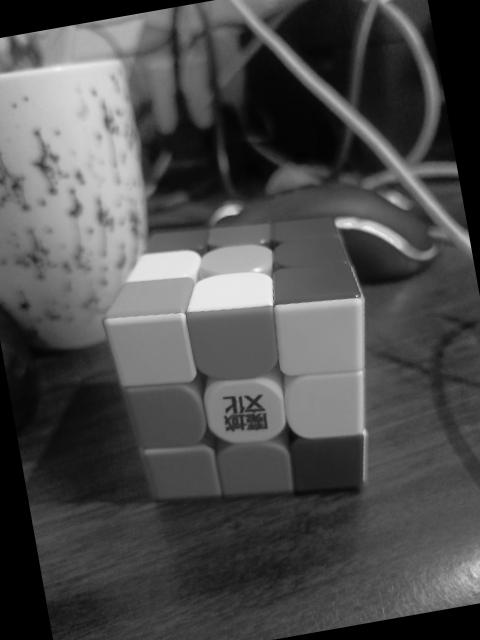rubik: (87, 195, 396, 526)
